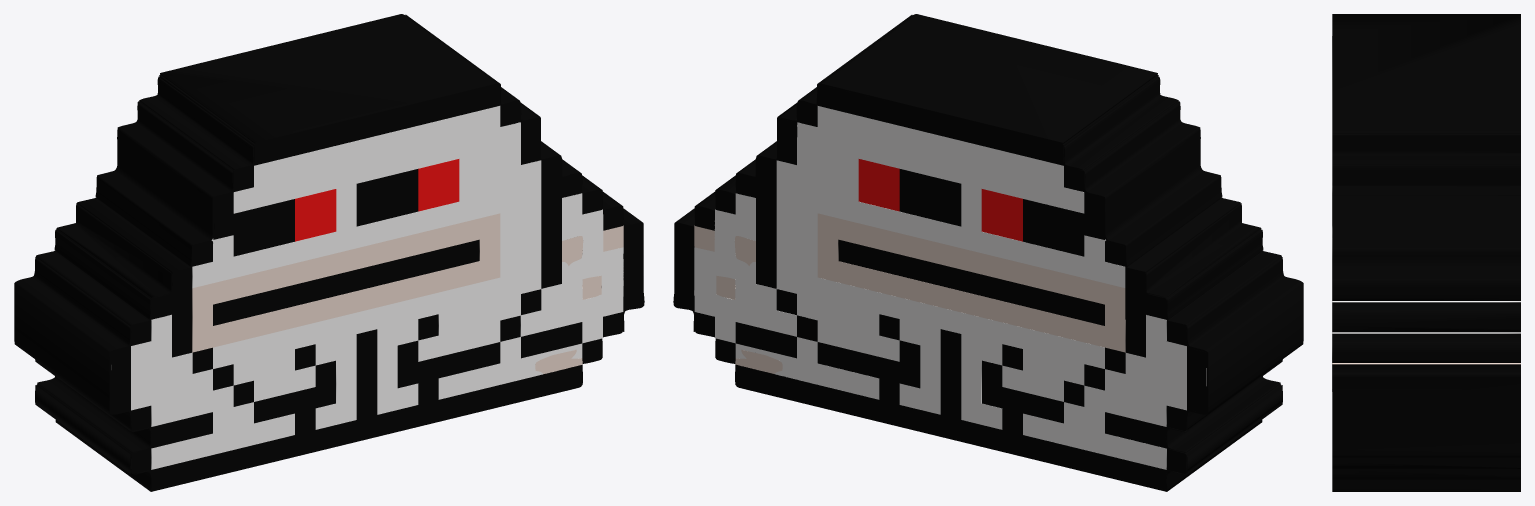
File: Toadz_1527.glb
3 views of the same model, side by side, from view 1: azimuth 30°, elevation 25°; view 2: azimuth 150°, elevation 25°; view 3: azimuth 270°, elevation 25° (orthographic).
Parts seen in each view (by area): view 1: Curve; view 2: Curve; view 3: Curve.
Part boxes in pixels (box(x1,y1,x2,y2)): Curve: box(14, 14, 644, 491); Curve: box(673, 14, 1303, 491); Curve: box(1332, 14, 1520, 491).
Bounding box in the file's own units: 3.24 × 1.88 × 1.
